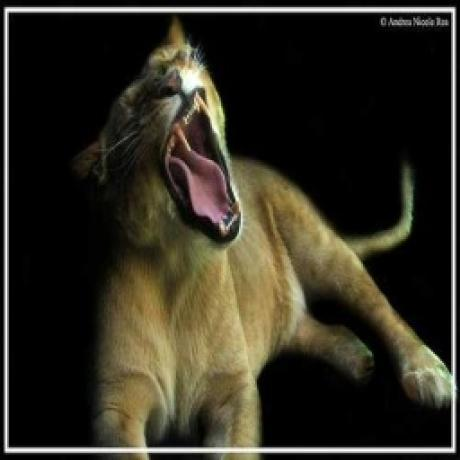Lion: (69, 17, 453, 448)
